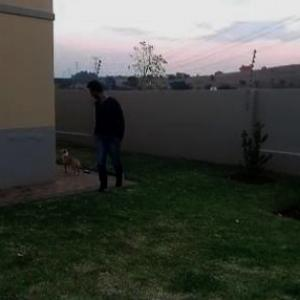follow: (89, 72, 126, 198)
